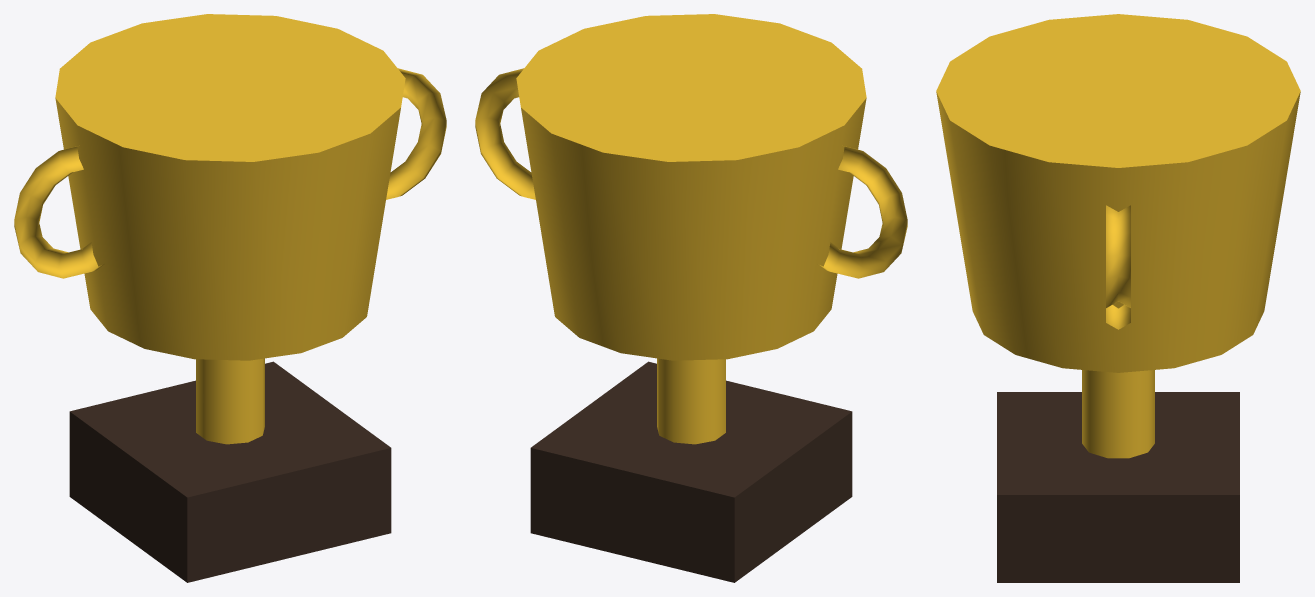
The model's file is trophy.glb.
The picture shows the model from 3 angles, left to right: view 1: azimuth 30°, elevation 25°; view 2: azimuth 150°, elevation 25°; view 3: azimuth 270°, elevation 25°; orthographic projection. The views are drawn at different scales.
Visible parts, largest first — view 1: trophy; view 2: trophy; view 3: trophy.
Boxes of the visible parts, bbox=[...] form: trophy: bbox=[14, 14, 446, 582]; trophy: bbox=[475, 14, 907, 582]; trophy: bbox=[936, 14, 1300, 582].
Bounding box in the file's own units: 0.424 × 0.4 × 0.3.
